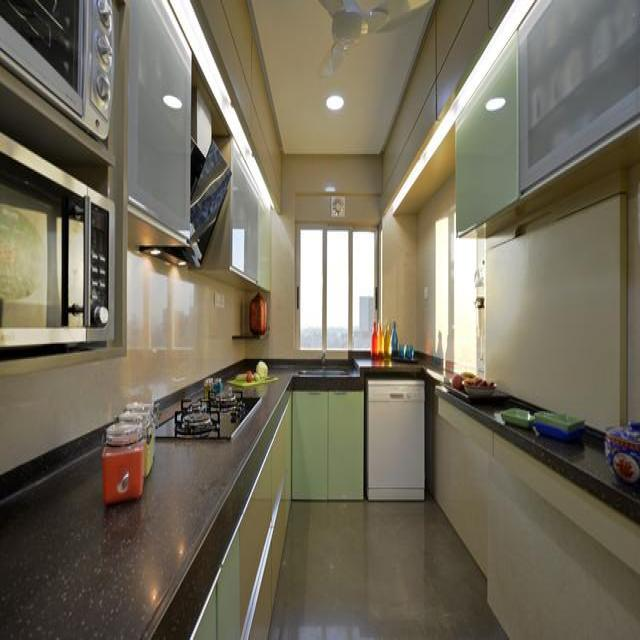dishwasher: (364, 370, 431, 504)
